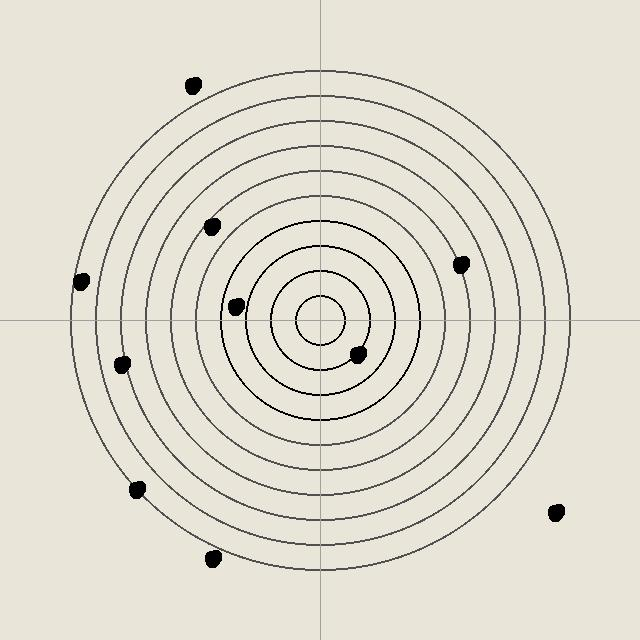random_scatter: (182, 75, 202, 95), (347, 344, 367, 364), (545, 502, 565, 522), (225, 296, 245, 316), (202, 548, 222, 568), (201, 216, 221, 236), (450, 254, 470, 274), (126, 479, 146, 499), (111, 354, 131, 374), (70, 271, 90, 291)
